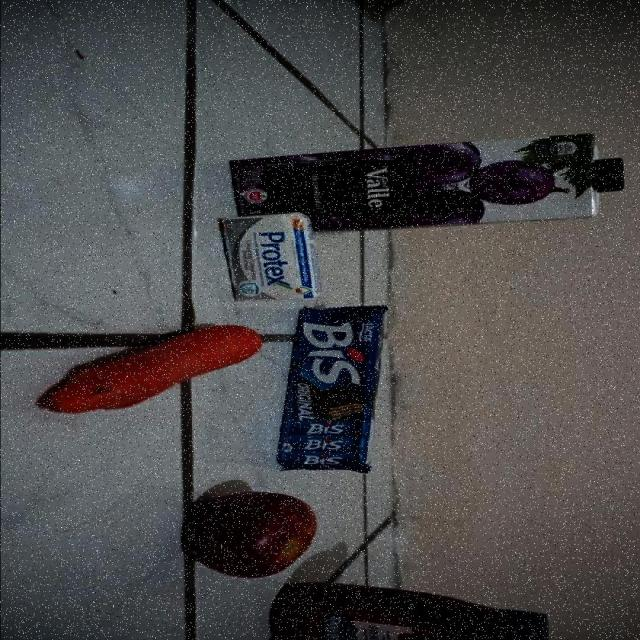Apple: (181, 490, 317, 577)
Carrot: (42, 327, 263, 413)
Ketchup: (262, 585, 553, 640)
Soap: (223, 213, 318, 301)
